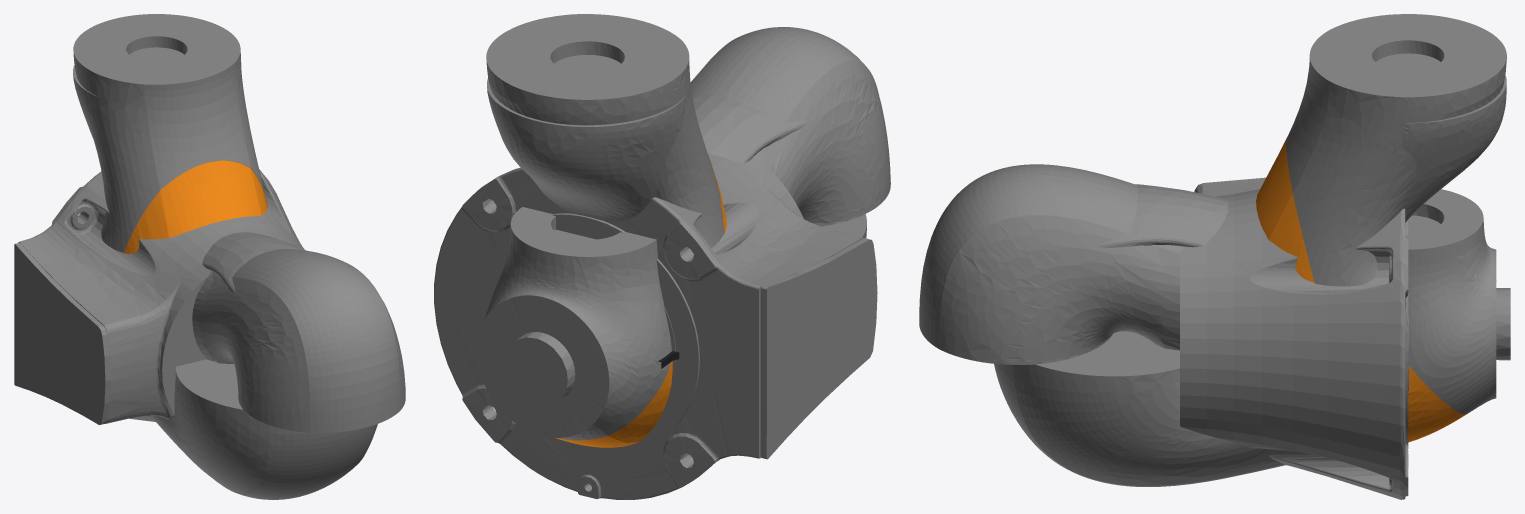
File: arm.glb
The picture shows the model from 3 angles, left to right: view 1: azimuth 30°, elevation 25°; view 2: azimuth 150°, elevation 25°; view 3: azimuth 270°, elevation 25°; orthographic projection. The views are drawn at different scales.
Visible parts, largest first — view 1: b1, b3, b4, b2, b6, b5; view 2: b1, b7, b3, b4, b5, b2, b6; view 3: b1, b4, b3, b2, b7, b5, b6.
Boxes of the visible parts, left/top/right/bottom form: b1: left=14, top=169, right=304, bottom=424; b3: left=73, top=14, right=267, bottom=253; b4: left=192, top=249, right=405, bottom=433; b2: left=150, top=359, right=377, bottom=499; b6: left=202, top=232, right=306, bottom=293; b5: left=73, top=65, right=103, bottom=138; b1: left=434, top=153, right=877, bottom=499; b7: left=476, top=207, right=672, bottom=447; b3: left=477, top=14, right=726, bottom=452; b4: left=690, top=27, right=890, bottom=226; b5: left=487, top=78, right=688, bottom=381; b2: left=478, top=214, right=866, bottom=452; b6: left=692, top=95, right=808, bottom=163; b1: left=1180, top=177, right=1408, bottom=499; b4: left=919, top=164, right=1184, bottom=364; b3: left=1256, top=14, right=1506, bottom=448; b2: left=994, top=331, right=1285, bottom=486; b7: left=1405, top=189, right=1510, bottom=442; b5: left=1401, top=75, right=1506, bottom=390; b6: left=1099, top=184, right=1228, bottom=247.
Bounding box in the file's own units: 0.2573 × 0.3259 × 0.4081.
